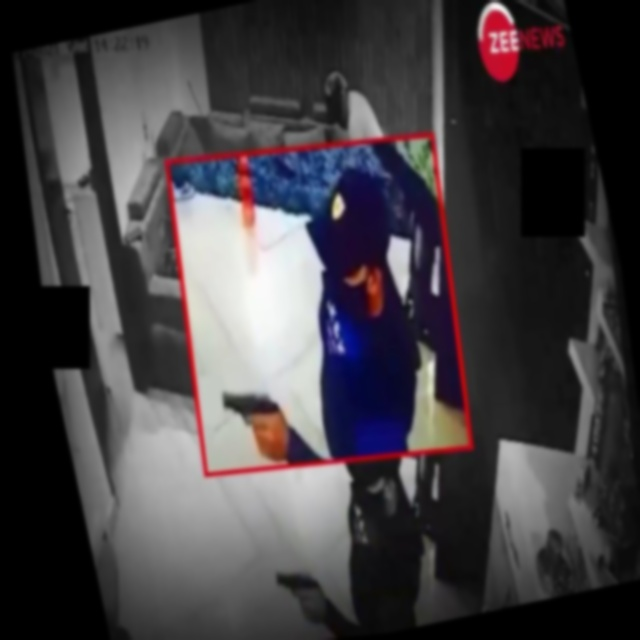gun: (212, 367, 291, 444)
